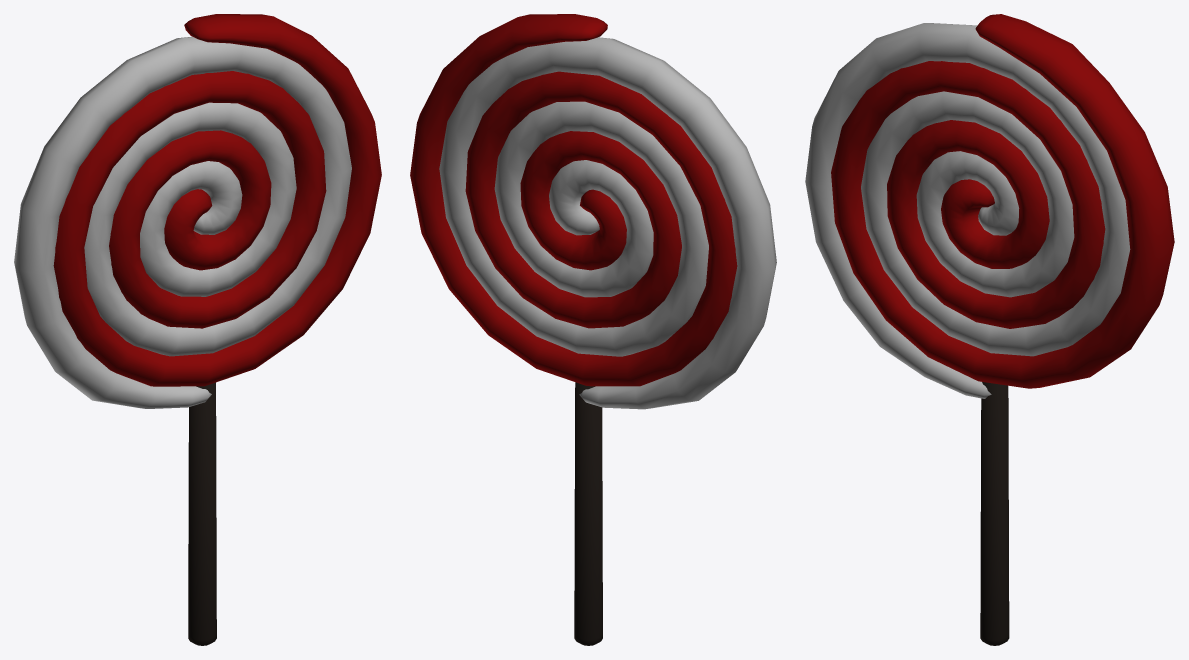
Rendered from Lollipop_1.FBX.
The picture shows the model from 3 angles, left to right: view 1: azimuth 30°, elevation 25°; view 2: azimuth 150°, elevation 25°; view 3: azimuth 330°, elevation 25°; orthographic projection.
Parts seen in each view (by area): view 1: Lollipop_1; view 2: Lollipop_1; view 3: Lollipop_1.
Part boxes in pixels (x1,y1,x2,y2): Lollipop_1: (14,14,381,645); Lollipop_1: (410,14,776,645); Lollipop_1: (805,14,1174,645).
Bounding box in the file's own units: 711 × 97.33 × 1166.
